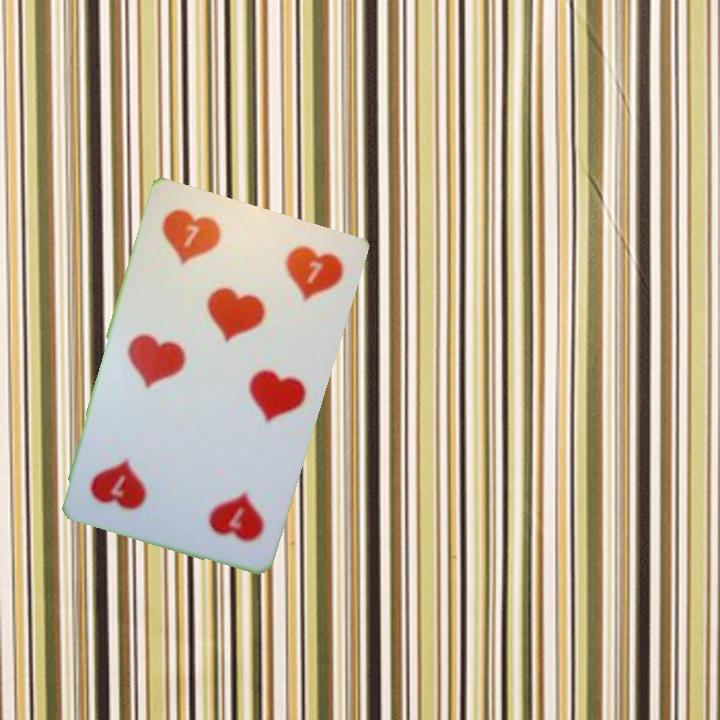h_7.png: (162, 449, 282, 559), (141, 196, 260, 306)
